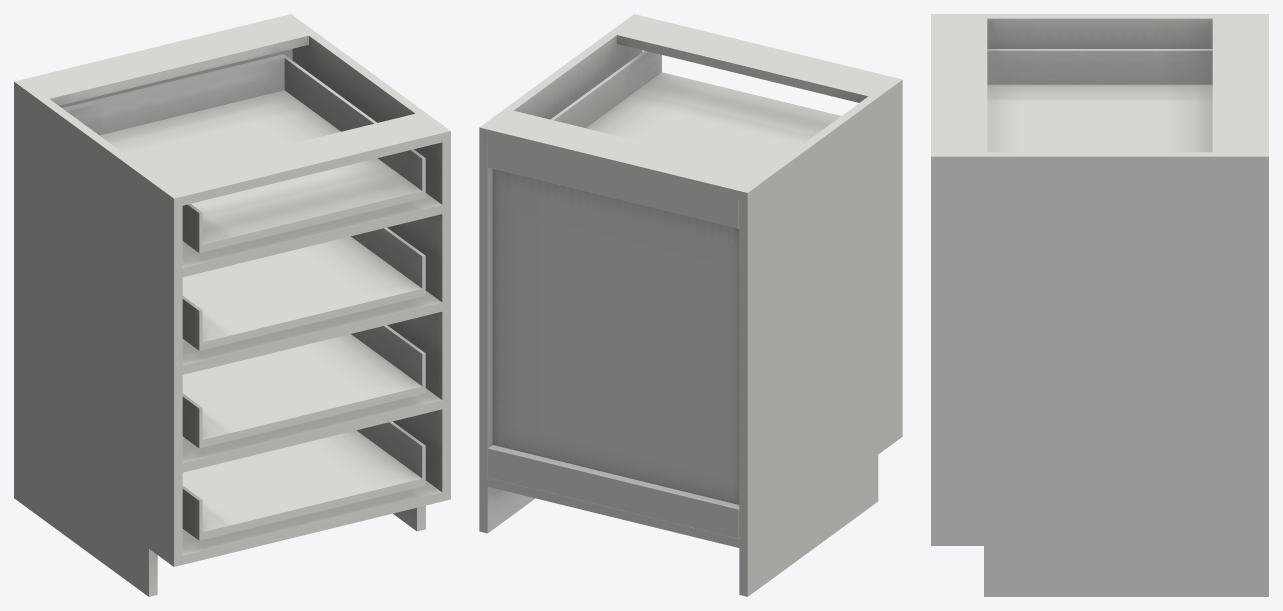
File: 4-drawer-bank-base-doors-off.glb
3 renders of one model, left to right at view 1: azimuth 30°, elevation 25°; view 2: azimuth 150°, elevation 25°; view 3: azimuth 270°, elevation 25°, orthographic. The views are drawn at different scales.
Parts seen in each view (by area): view 1: part_0, part_3; view 2: part_0, part_3; view 3: part_0, part_3.
Part boxes in pixels (x1,y1,x2,y2): part_0: (14,14,450,596); part_3: (62,54,425,540); part_0: (479,14,902,596); part_3: (550,50,840,171); part_0: (931,14,1268,596); part_3: (987,49,1212,152).
Size of the model in its own units: 0.6096 by 0.8763 by 0.6096.
2 materials, 1 textured.
